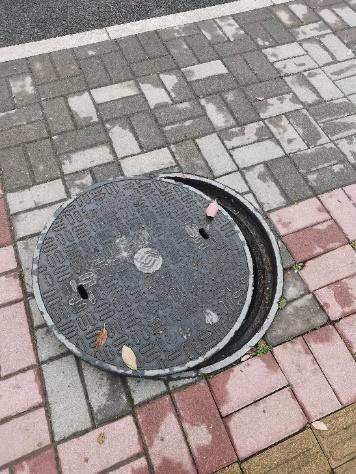wellcover: (28, 164, 292, 384)
